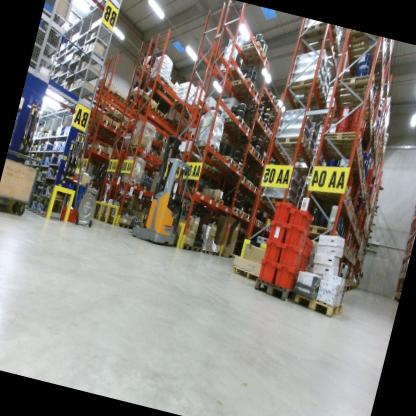pallet: (102, 60, 157, 162), (289, 285, 347, 323), (251, 271, 308, 308), (318, 121, 367, 164), (297, 29, 344, 70), (331, 63, 380, 101), (283, 69, 327, 110), (344, 31, 395, 66), (296, 20, 340, 54), (334, 105, 377, 139), (271, 126, 313, 159), (333, 90, 377, 120), (303, 175, 352, 200), (277, 141, 317, 171), (351, 49, 391, 79), (301, 213, 343, 241), (294, 88, 332, 118), (238, 33, 268, 66), (227, 74, 260, 102), (244, 48, 274, 76), (188, 136, 225, 158), (257, 192, 293, 214), (208, 150, 237, 174), (238, 87, 264, 112), (232, 260, 262, 281), (217, 60, 243, 83), (122, 119, 151, 139), (220, 112, 248, 132), (230, 120, 255, 142), (197, 194, 227, 211), (127, 140, 153, 158), (109, 216, 136, 233), (147, 72, 171, 91), (257, 88, 278, 109), (101, 106, 124, 125), (171, 149, 198, 164), (187, 102, 210, 119), (219, 200, 242, 216), (228, 171, 249, 188), (349, 144, 365, 166), (95, 117, 113, 136), (238, 141, 258, 158), (173, 239, 194, 255), (92, 95, 112, 111), (254, 126, 274, 141), (119, 179, 142, 192), (82, 112, 104, 125), (85, 144, 106, 157), (248, 111, 265, 127), (159, 82, 175, 98), (252, 119, 269, 134), (149, 136, 167, 150), (159, 114, 175, 129), (267, 101, 282, 116), (355, 173, 369, 188), (354, 183, 368, 197), (340, 281, 352, 297), (220, 250, 237, 261), (194, 156, 208, 169), (203, 161, 215, 175), (154, 108, 168, 120), (357, 166, 367, 182), (209, 247, 222, 259), (233, 162, 245, 175), (145, 102, 158, 114), (190, 243, 202, 255), (244, 211, 255, 224), (256, 154, 267, 167), (200, 245, 212, 256), (110, 124, 122, 135), (349, 204, 357, 220), (253, 147, 262, 161), (352, 213, 360, 228), (347, 198, 355, 212), (364, 190, 373, 202), (246, 180, 256, 190), (118, 128, 128, 138), (259, 220, 268, 231), (359, 155, 366, 168), (252, 185, 261, 195), (239, 210, 247, 218), (255, 218, 262, 226)
small_load_carrier: (271, 259, 303, 295), (273, 242, 305, 276), (287, 200, 318, 233), (278, 226, 311, 253), (263, 215, 291, 246), (270, 195, 296, 228), (258, 237, 282, 266), (54, 200, 81, 225), (255, 260, 278, 284), (297, 254, 312, 271), (302, 239, 315, 257)
